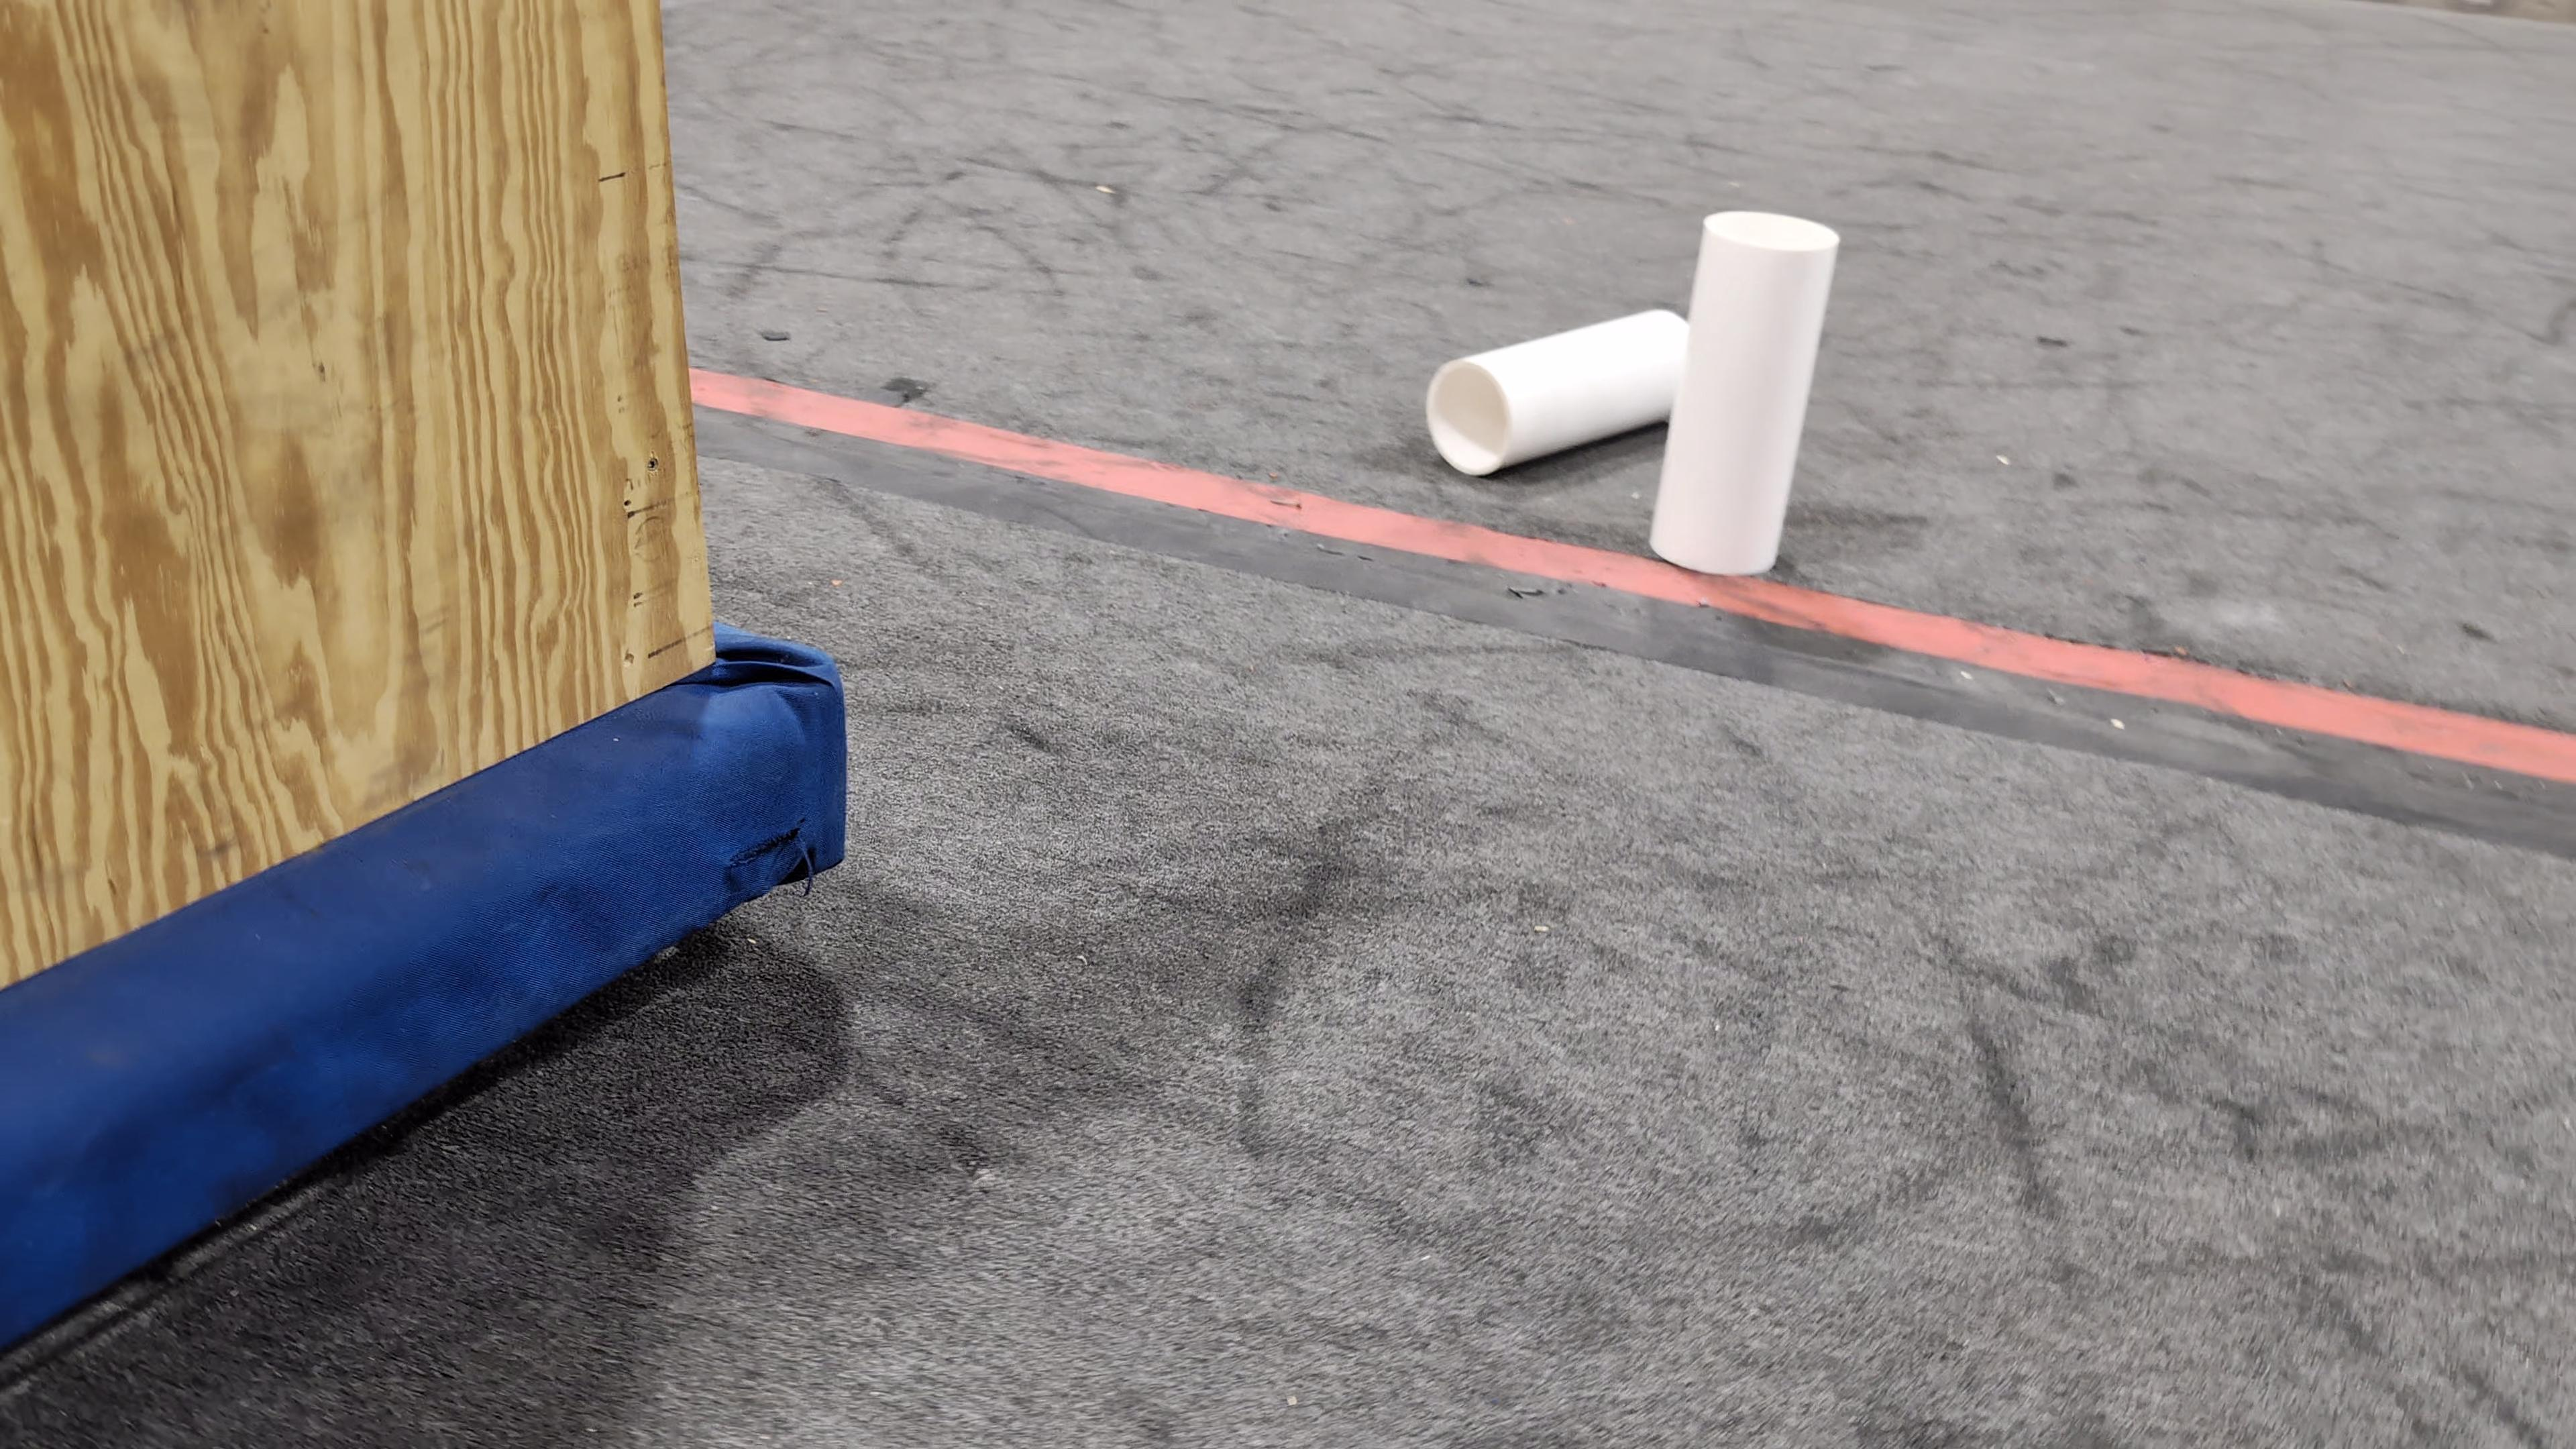coral: (1424, 304, 1697, 474)
